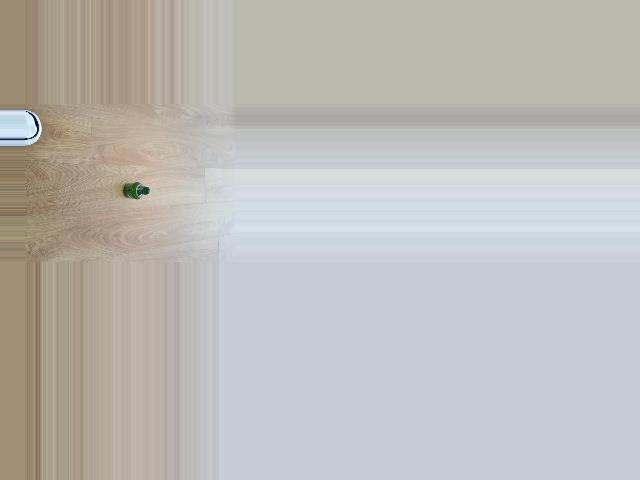beer: (122, 181, 149, 199)
